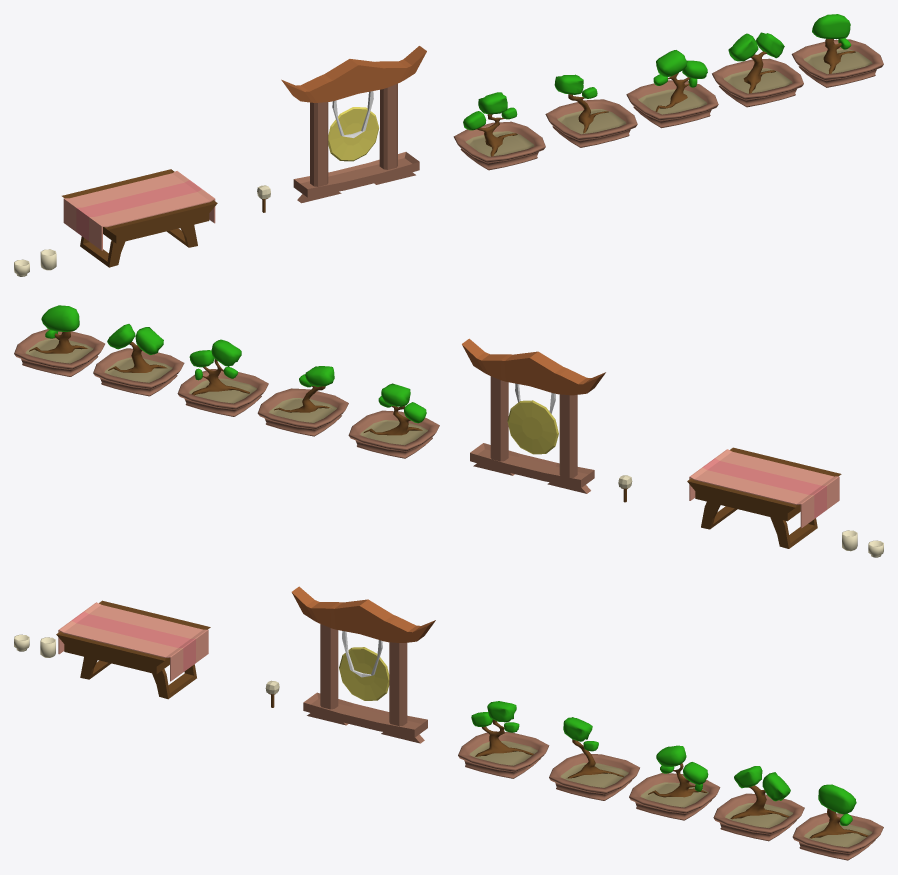
Rendered from Joao_semana9.fbx.
3 renders of one model, top to bottom at view 1: azimuth 30°, elevation 25°; view 2: azimuth 150°, elevation 25°; view 3: azimuth 330°, elevation 25°, orthographic.
Visible parts, largest first — view 1: Gongo, mesa_cha, Bonsai3, Bonsai4, Bonsai1, Bonsai5, Bonsai2; view 2: Gongo, mesa_cha, Bonsai3, Bonsai4, Bonsai1, Bonsai5, Bonsai2; view 3: Gongo, mesa_cha, Bonsai4, Bonsai1, Bonsai3, Bonsai5, Bonsai2.
Boxes of the visible parts, left/top/right/bottom form: Gongo: left=281, top=46, right=426, bottom=203; mesa_cha: left=62, top=169, right=217, bottom=267; Bonsai3: left=626, top=50, right=718, bottom=128; Bonsai4: left=712, top=32, right=803, bottom=107; Bonsai1: left=453, top=92, right=545, bottom=170; Bonsai5: left=791, top=14, right=883, bottom=87; Bonsai2: left=545, top=74, right=637, bottom=147; Gongo: left=462, top=338, right=605, bottom=493; mesa_cha: left=687, top=447, right=841, bottom=548; Bonsai3: left=177, top=339, right=268, bottom=416; Bonsai4: left=93, top=324, right=184, bottom=396; Bonsai1: left=348, top=383, right=439, bottom=458; Bonsai5: left=14, top=305, right=104, bottom=376; Bonsai2: left=257, top=366, right=348, bottom=436; Gongo: left=291, top=586, right=435, bottom=743; mesa_cha: left=56, top=600, right=210, bottom=699; Bonsai4: left=713, top=766, right=804, bottom=841; Bonsai1: left=458, top=701, right=549, bottom=778; Bonsai3: left=629, top=745, right=720, bottom=820; Bonsai5: left=792, top=784, right=883, bottom=860; Bonsai2: left=549, top=717, right=639, bottom=800.
Size of the model in its own units: 1.21 by 11.99 by 1.69.
